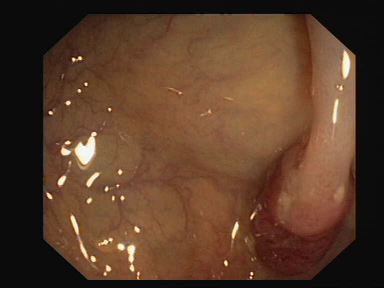polyp: (261, 112, 355, 240)
